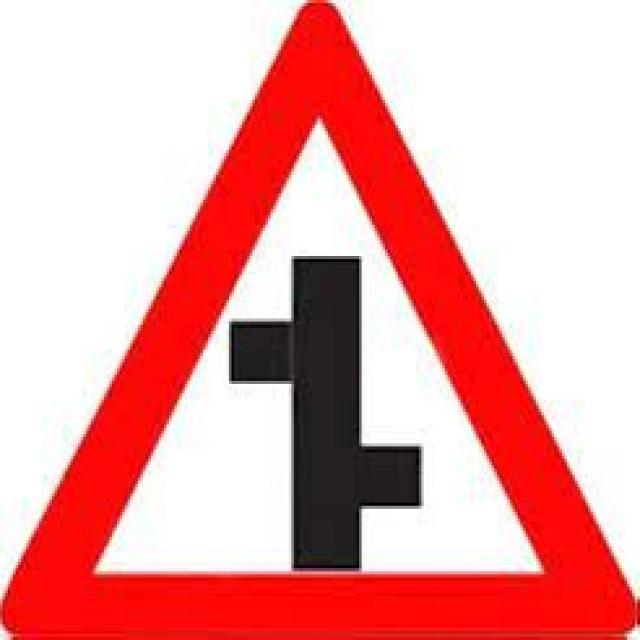staggered intersection: (21, 14, 625, 622)
